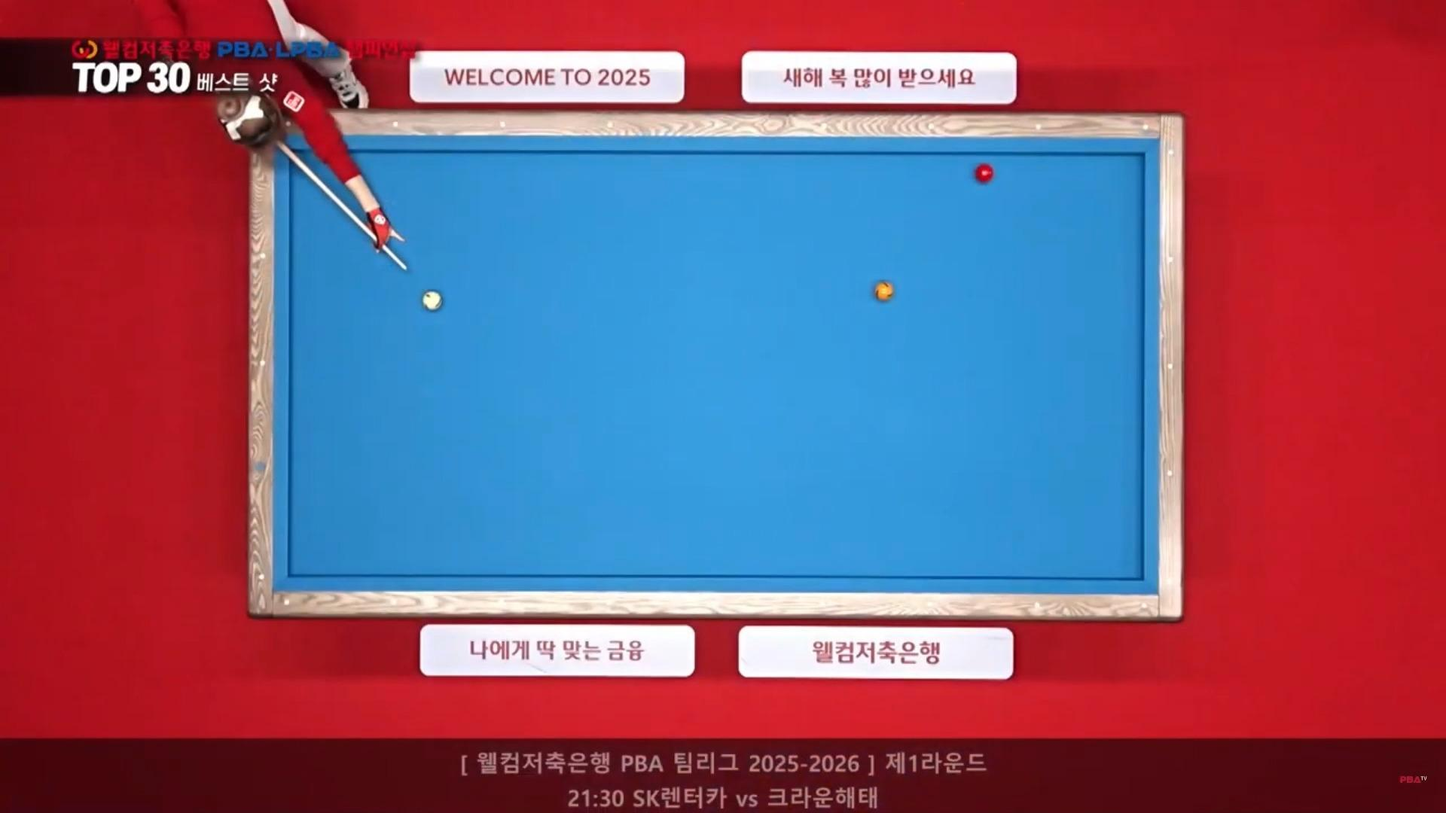Red: (972, 166, 994, 185)
White: (419, 292, 444, 312)
Yellow: (873, 283, 898, 303)
